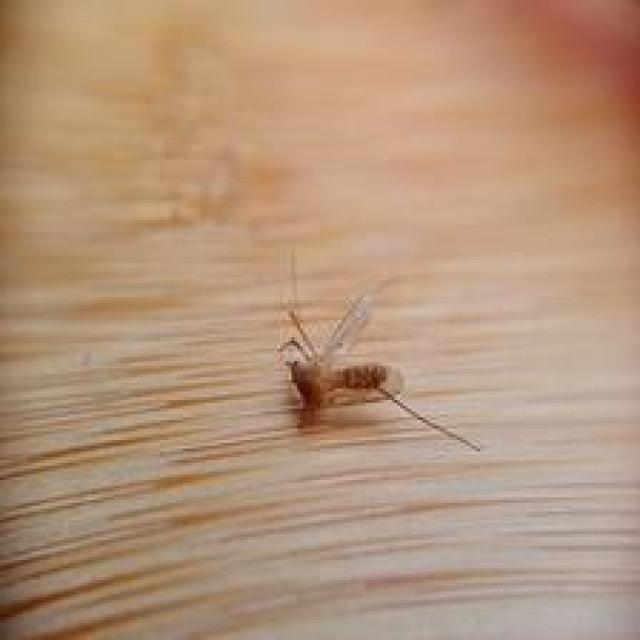Culex: (274, 263, 483, 454)
